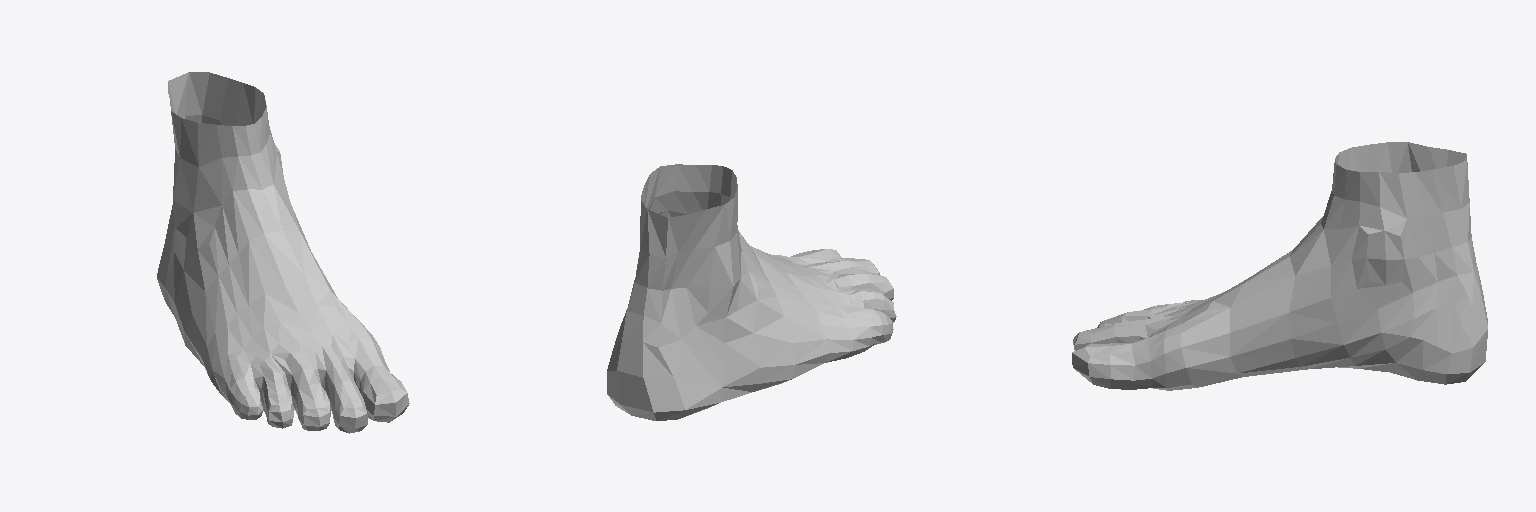
The model's file is 0_3_FootPolygonalRight.obj.
3 renders of one model, left to right at view 1: azimuth 30°, elevation 25°; view 2: azimuth 150°, elevation 25°; view 3: azimuth 270°, elevation 25°, orthographic.
Parts seen in each view (by area): view 1: polySurface1156.003; view 2: polySurface1156.003; view 3: polySurface1156.003.
Boxes of the visible parts, x1,y1,x2,y2 form: polySurface1156.003: [157, 72, 409, 433]; polySurface1156.003: [607, 164, 896, 420]; polySurface1156.003: [1072, 142, 1487, 390].
Size of the model in its own units: 0.0725 by 0.1078 by 0.1818.